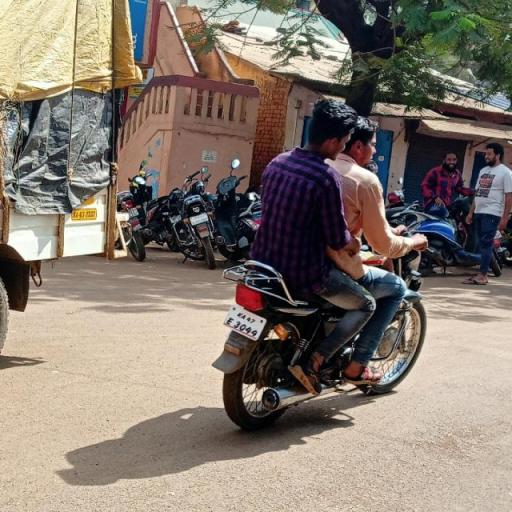bike: (204, 91, 443, 431)
numberplate: (214, 296, 284, 354)
withouthelmet: (312, 98, 354, 150), (354, 116, 376, 160)
